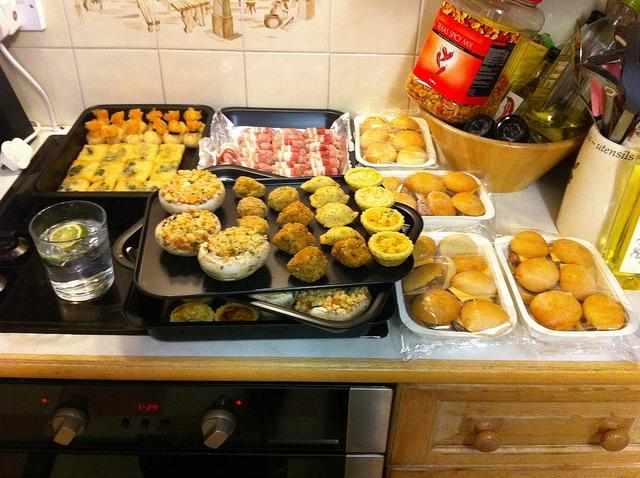lime: (49, 223, 86, 241)
mushroom: (158, 168, 225, 214), (198, 240, 271, 282), (154, 214, 221, 257), (243, 291, 300, 308)
